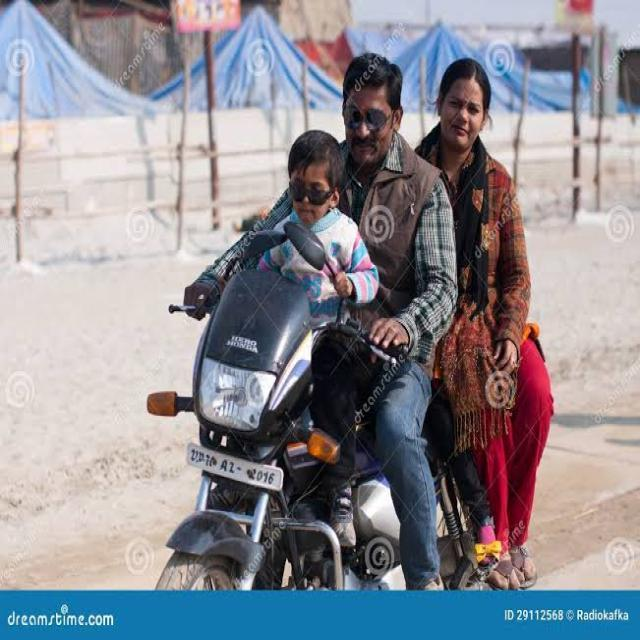two_wheeler_front: (144, 220, 553, 614), (182, 438, 286, 496)
